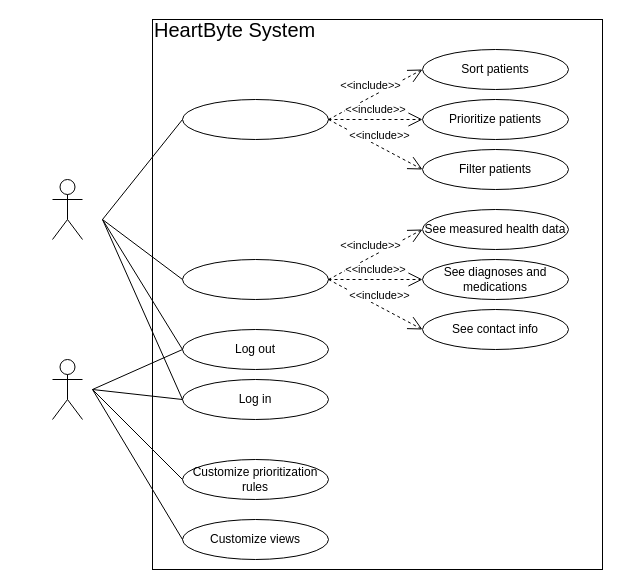
Image size: 620x587. Some labels were removed from this diagram. The centre of each missing label's shape, as x and y in pixels:
Admin: point 67,389
Health care worker: point 67,209
See detailed info about one patient: point 255,279
See overview over many patients: point 255,119
